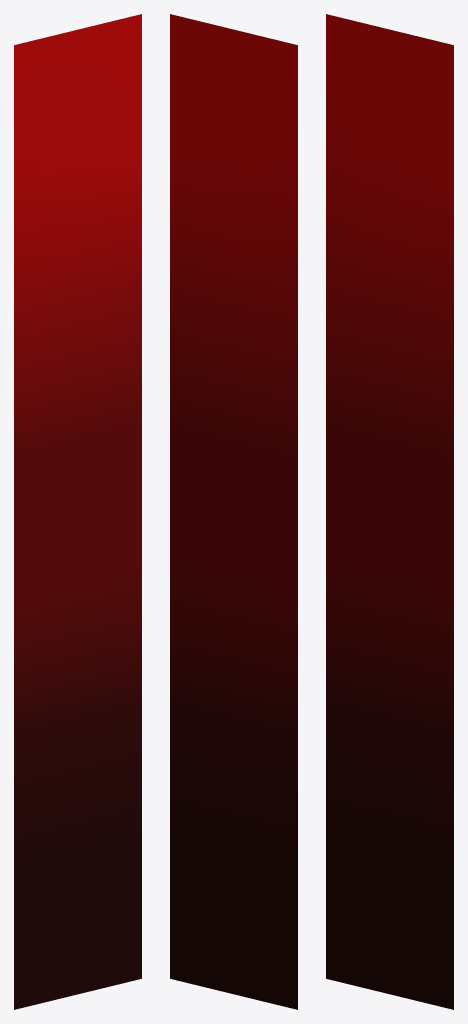
3 views of the same model, side by side, from view 1: azimuth 30°, elevation 25°; view 2: azimuth 150°, elevation 25°; view 3: azimuth 330°, elevation 25° (orthographic).
Parts seen in each view (by area): view 1: Plane; view 2: Plane; view 3: Plane.
Part boxes in pixels (bbox=[...]): Plane: bbox=[14, 14, 141, 1009]; Plane: bbox=[170, 14, 297, 1009]; Plane: bbox=[326, 14, 453, 1009].
Size of the model in its own units: 0.1235 by 0.8895 by 3.89e-08.
